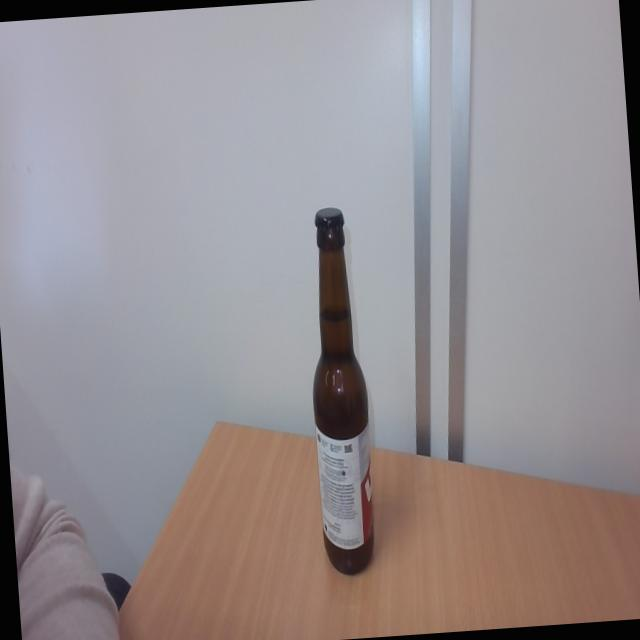Bottle: (300, 231, 380, 576)
Cap: (313, 203, 347, 235)
Label: (316, 427, 378, 553)
